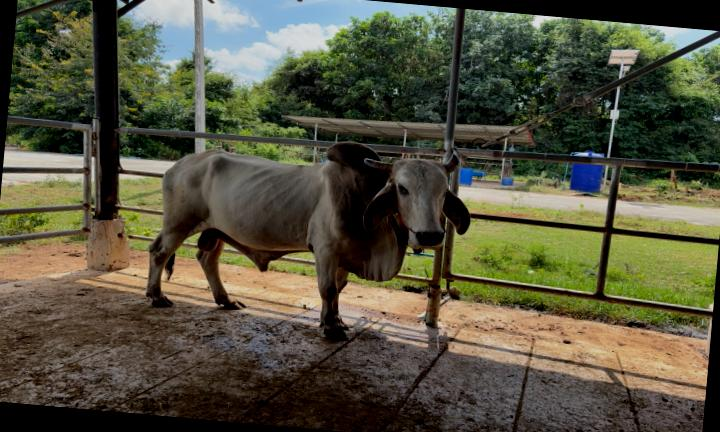Brahman: (147, 141, 470, 339)
